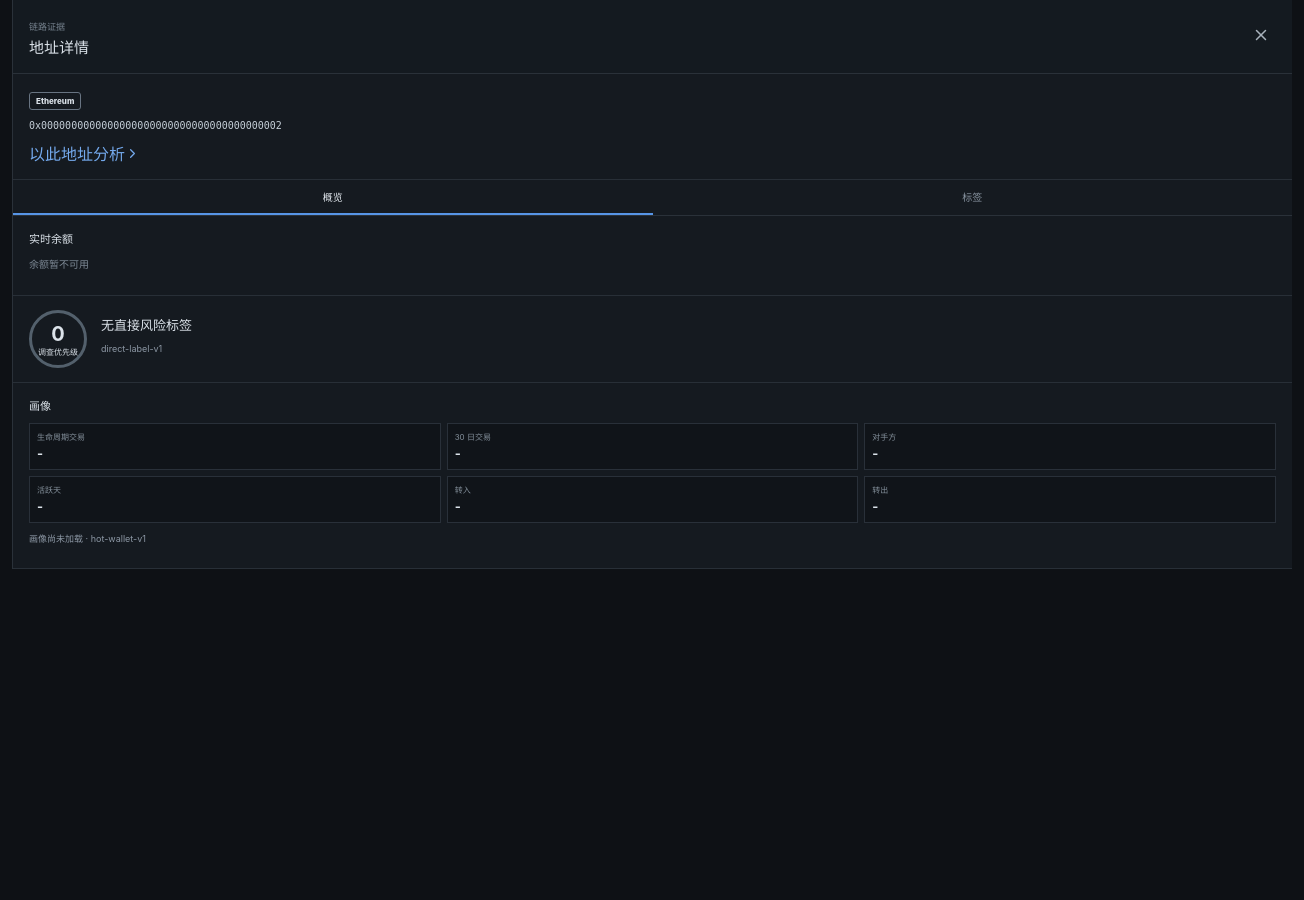
Test: DetailsPanel labels › creates a label for the selected node from the labels tab
The width and height of the screenshot is (1304, 900).
Click the tab "标签" at (972,198), box left=652, top=180, right=1292, bottom=215
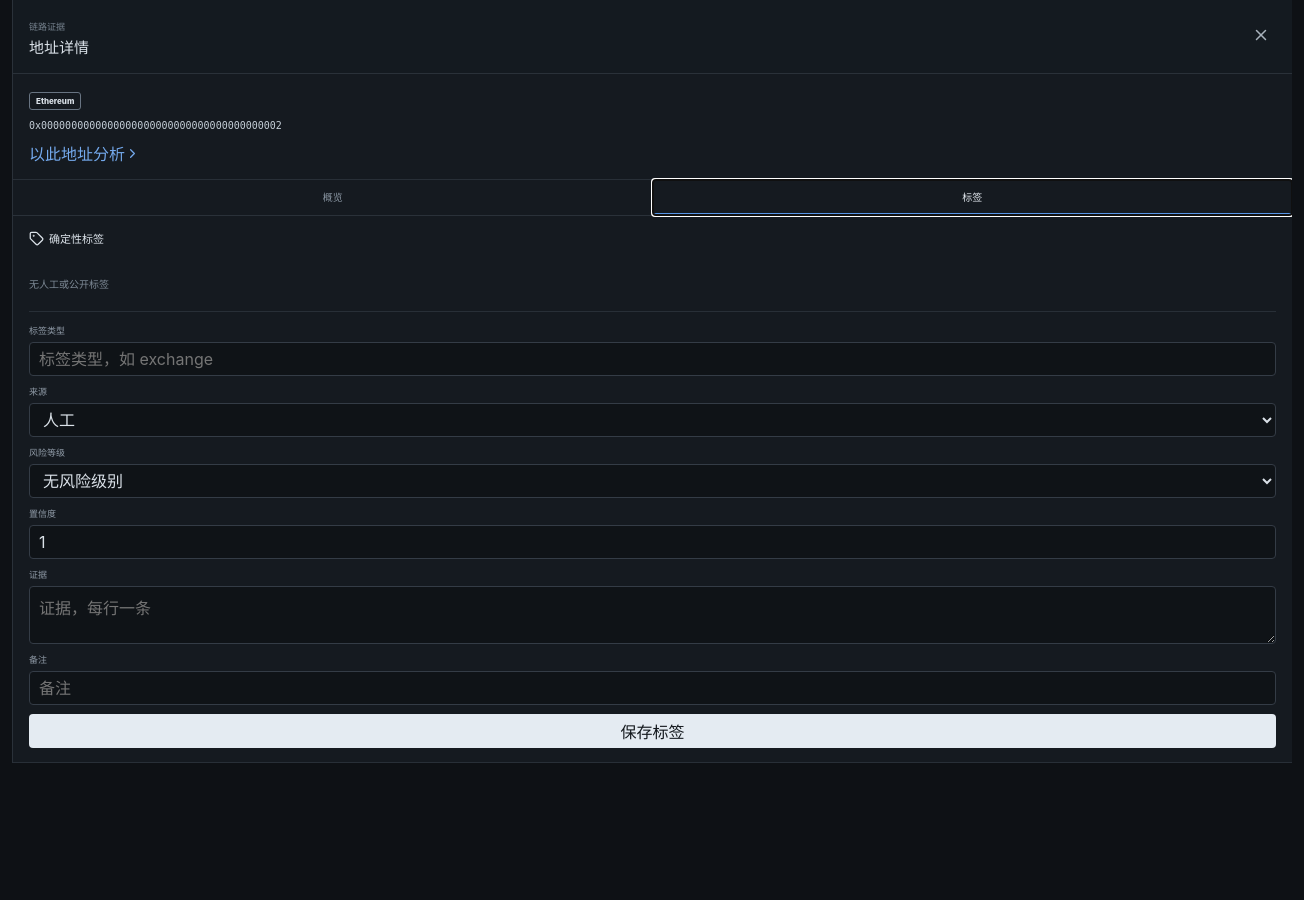
Type "hacker" into the field with placeholder "标签类型，如 exchange" at (652,359), box left=29, top=342, right=1276, bottom=376
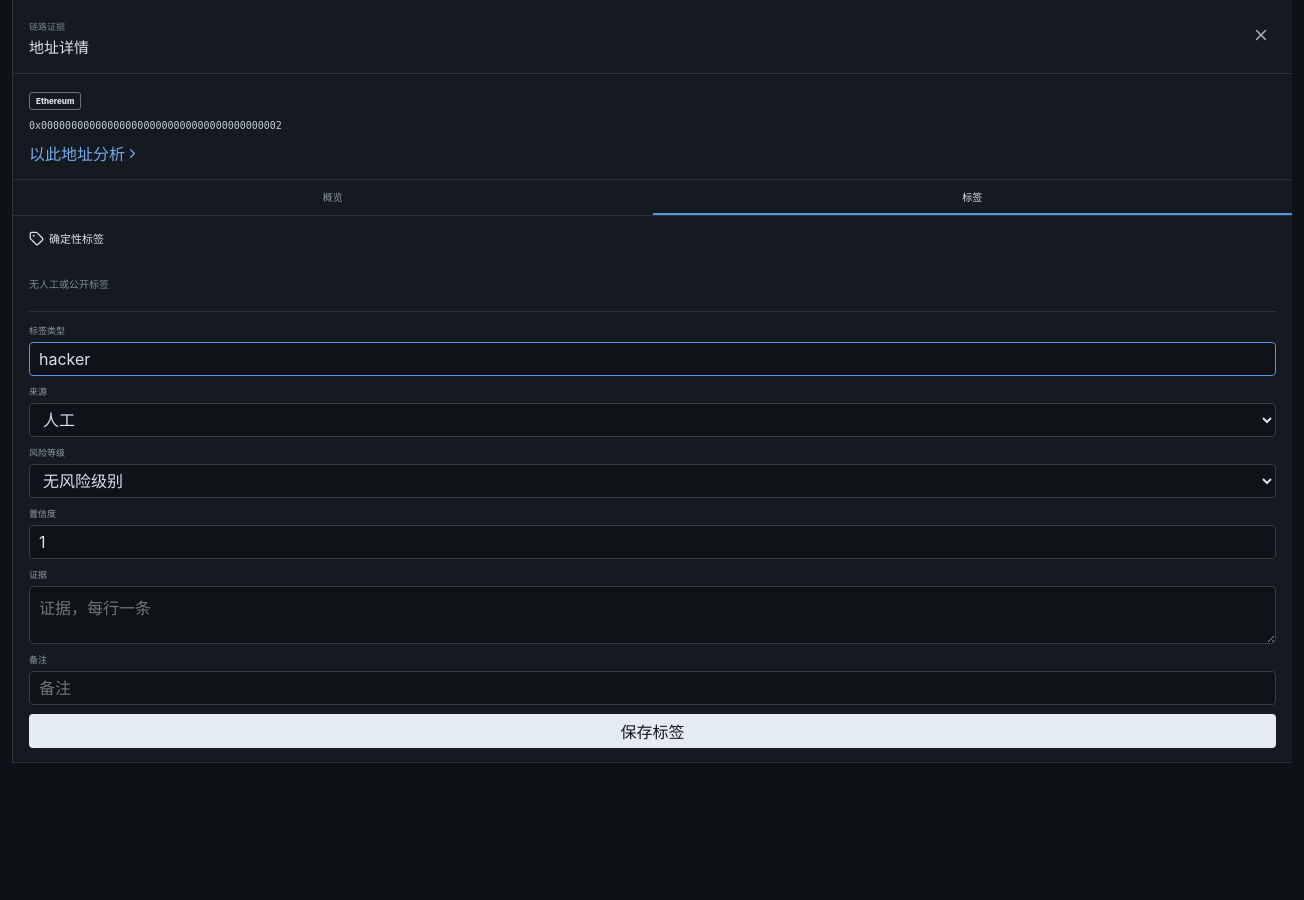
Select "高" in the dropdown labelled "风险等级" at (652,481), box left=29, top=464, right=1276, bottom=498
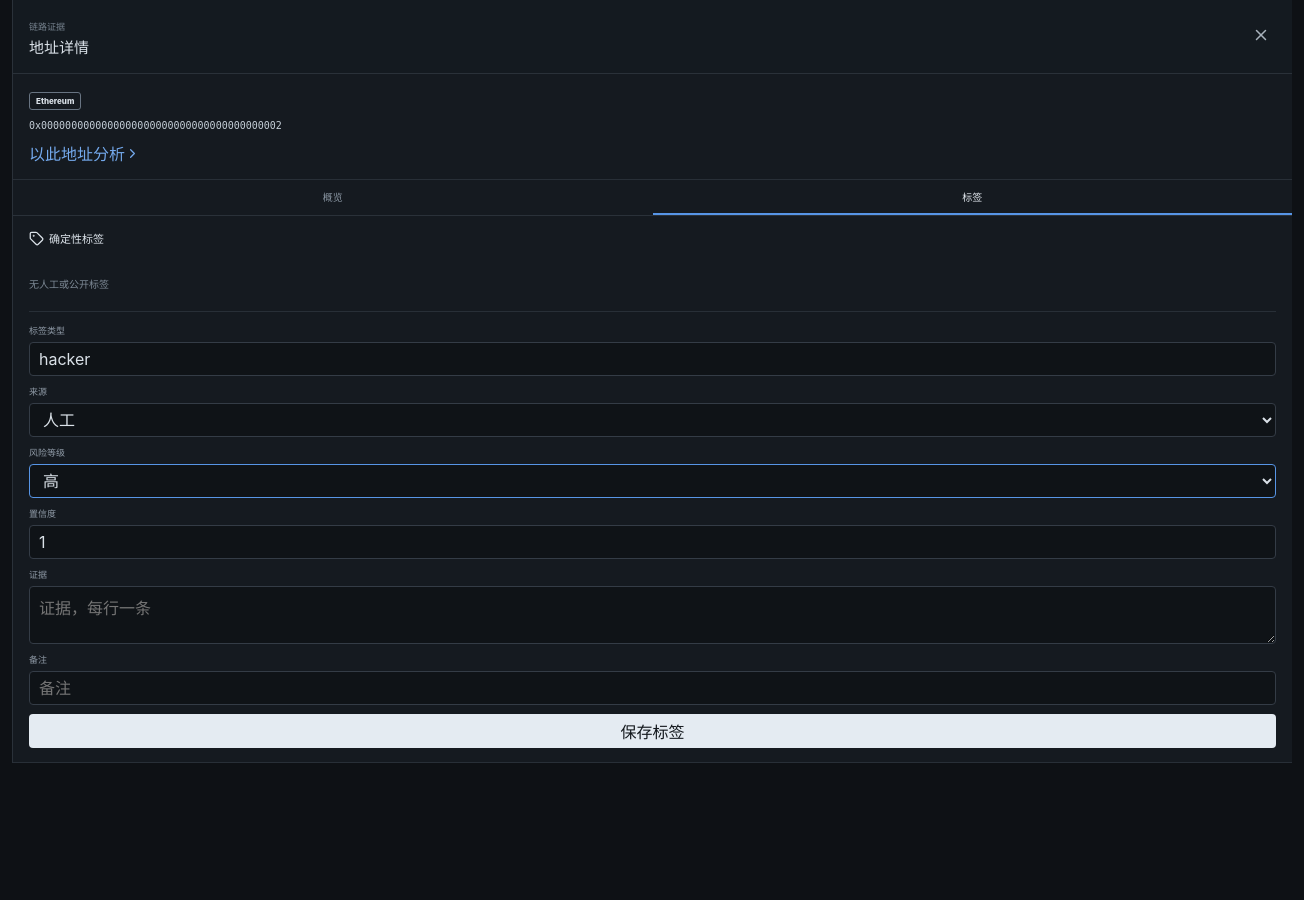
Type "case-1" into the text box with placeholder "证据，每行一条" at (652,615), box left=29, top=586, right=1276, bottom=644
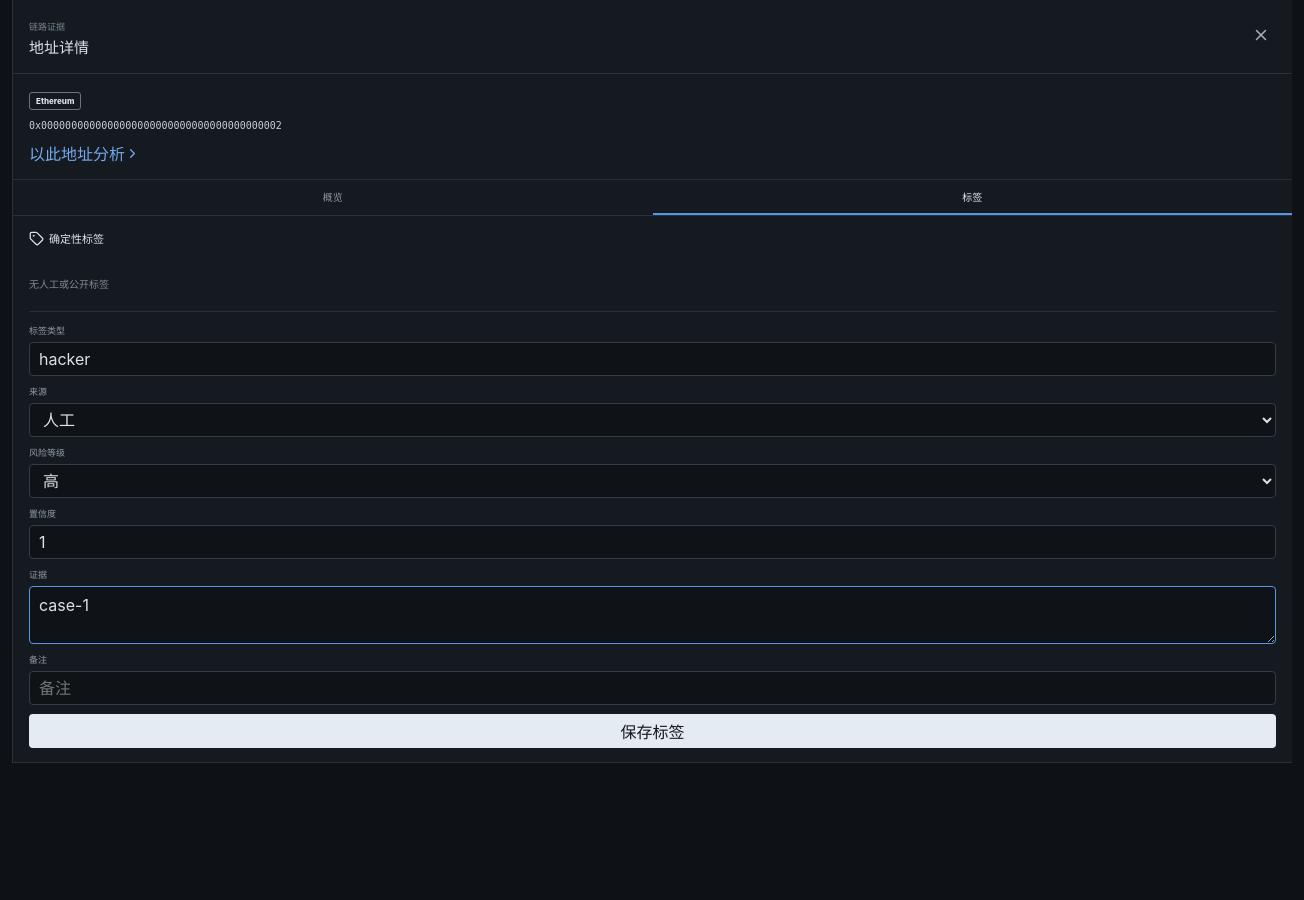
Click the button "保存标签" at (652,731), box left=29, top=714, right=1276, bottom=748
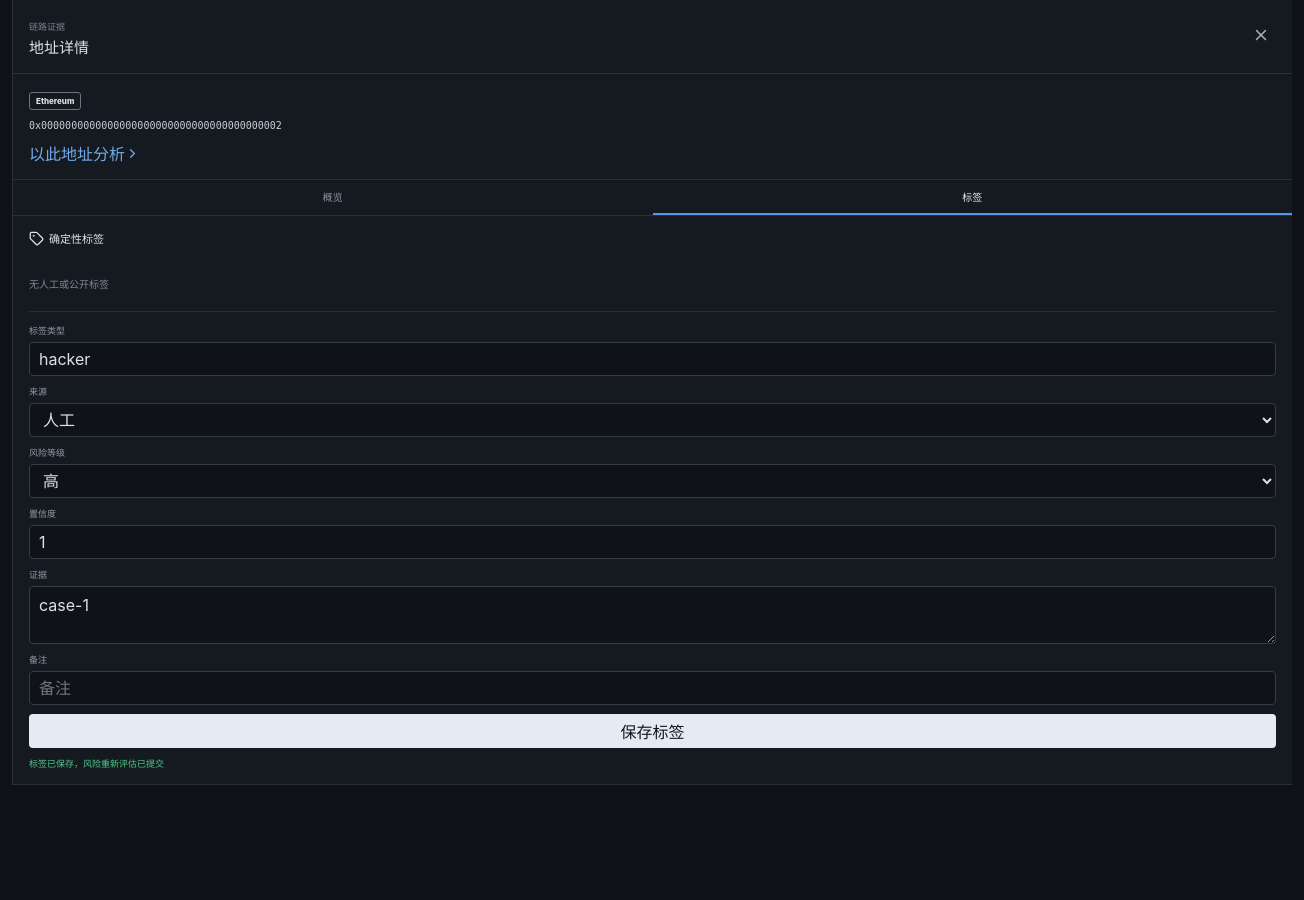
Now the text "标签已保存，风险重新评估已提交" is shown, box left=29, top=758, right=164, bottom=769
